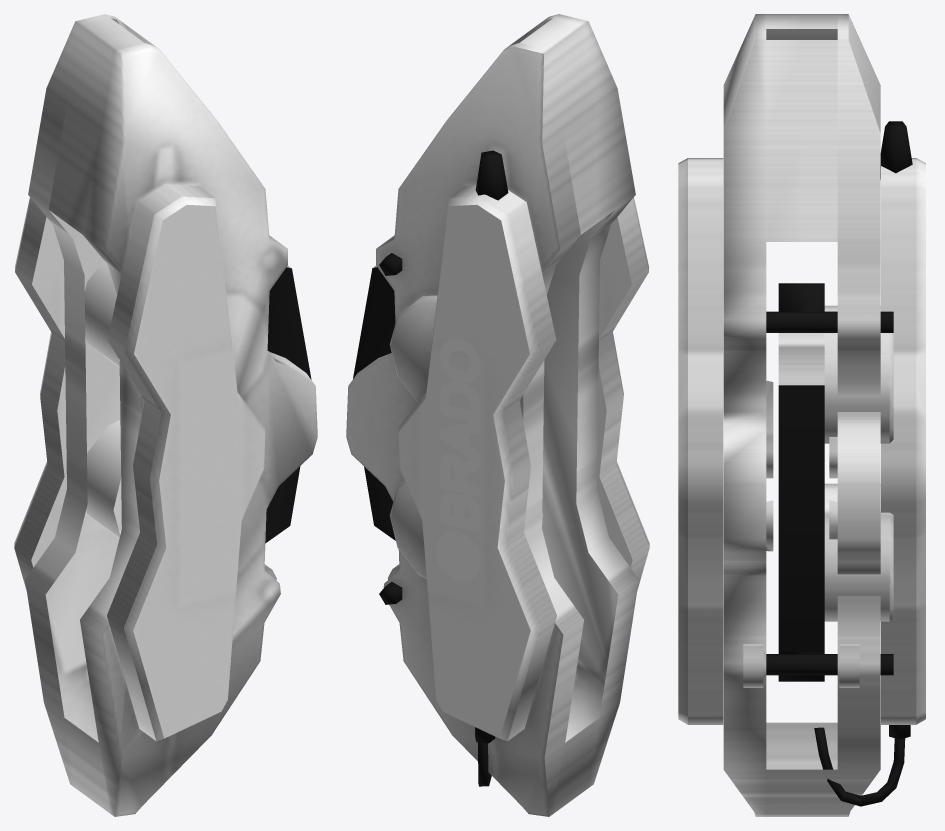
File: brake_03_L.FBX
The picture shows the model from 3 angles, left to right: view 1: azimuth 30°, elevation 25°; view 2: azimuth 150°, elevation 25°; view 3: azimuth 270°, elevation 25°; orthographic projection. The views are drawn at different scales.
Visible parts, largest first — view 1: brake_017; view 2: brake_017; view 3: brake_017.
Boxes of the visible parts, x1=… form: brake_017: x1=14, y1=14, x2=317, y2=816; brake_017: x1=346, y1=14, x2=649, y2=816; brake_017: x1=678, y1=14, x2=925, y2=816.
Bounding box in the file's own units: 0.1089 × 0.0956 × 0.3322.
